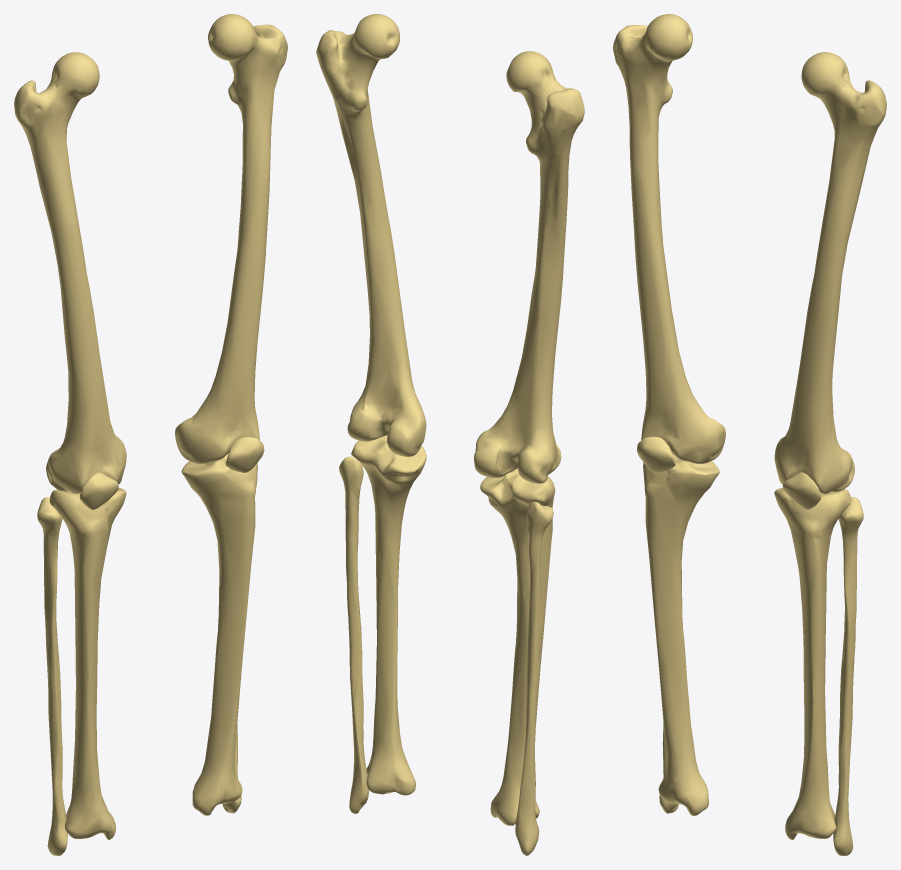
The model's file is knee.glb.
3 views of the same model, side by side, from view 1: azimuth 30°, elevation 25°; view 2: azimuth 150°, elevation 25°; view 3: azimuth 330°, elevation 25° (orthographic). The views are drawn at different scales.
Visible parts, largest first — view 1: knee:femur:isa:FJ3259, knee:femur:isa:FJ3365, knee:tibia:isa:FJ3282, knee:tibia:isa:FJ3387, knee:fibula:isa:FJ3366, knee:patella:isa:FJ3275, knee:patella:isa:FJ3381; view 2: knee:femur:isa:FJ3259, knee:femur:isa:FJ3365, knee:tibia:isa:FJ3282, knee:tibia:isa:FJ3387, knee:fibula:isa:FJ3366, knee:fibula:isa:FJ3260; view 3: knee:femur:isa:FJ3365, knee:femur:isa:FJ3259, knee:tibia:isa:FJ3387, knee:tibia:isa:FJ3282, knee:fibula:isa:FJ3260, knee:patella:isa:FJ3381, knee:patella:isa:FJ3275.
Boxes of the visible parts, <box> form: knee:femur:isa:FJ3259: <box>175,14,287,463</box>; knee:femur:isa:FJ3365: <box>14,52,126,493</box>; knee:tibia:isa:FJ3282: <box>181,453,257,815</box>; knee:tibia:isa:FJ3387: <box>49,487,126,839</box>; knee:fibula:isa:FJ3366: <box>37,497,67,855</box>; knee:patella:isa:FJ3275: <box>225,437,264,472</box>; knee:patella:isa:FJ3381: <box>79,472,118,509</box>; knee:femur:isa:FJ3259: <box>316,14,426,456</box>; knee:femur:isa:FJ3365: <box>474,51,584,483</box>; knee:tibia:isa:FJ3282: <box>351,435,426,795</box>; knee:tibia:isa:FJ3387: <box>480,468,555,825</box>; knee:fibula:isa:FJ3366: <box>515,501,553,855</box>; knee:fibula:isa:FJ3260: <box>339,456,368,813</box>; knee:femur:isa:FJ3365: <box>613,14,725,463</box>; knee:femur:isa:FJ3259: <box>774,52,886,494</box>; knee:tibia:isa:FJ3387: <box>643,454,719,815</box>; knee:tibia:isa:FJ3282: <box>774,488,851,839</box>; knee:fibula:isa:FJ3260: <box>833,497,863,855</box>; knee:patella:isa:FJ3381: <box>637,436,675,472</box>; knee:patella:isa:FJ3275: <box>782,472,821,509</box>.
Bounding box in the file's own units: 0.3004 × 0.8595 × 0.0743.
